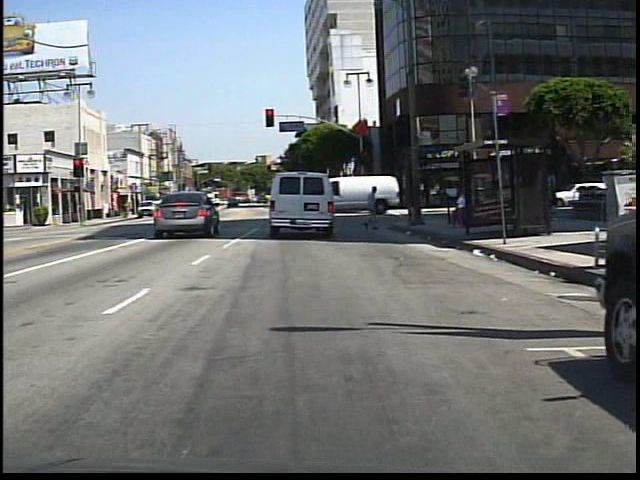person: (360, 182, 385, 234), (163, 192, 178, 218)
